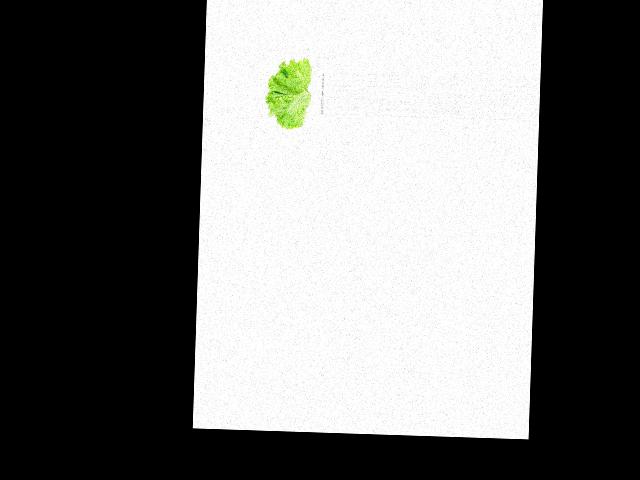lettuce: (263, 56, 321, 131)
